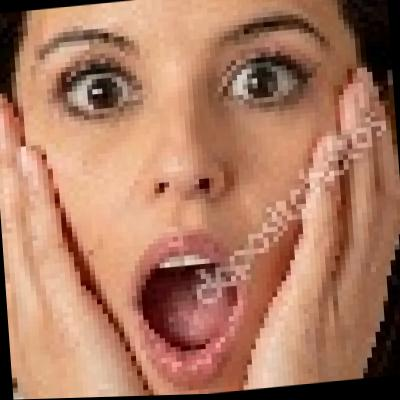surprise: (20, 0, 382, 400)
